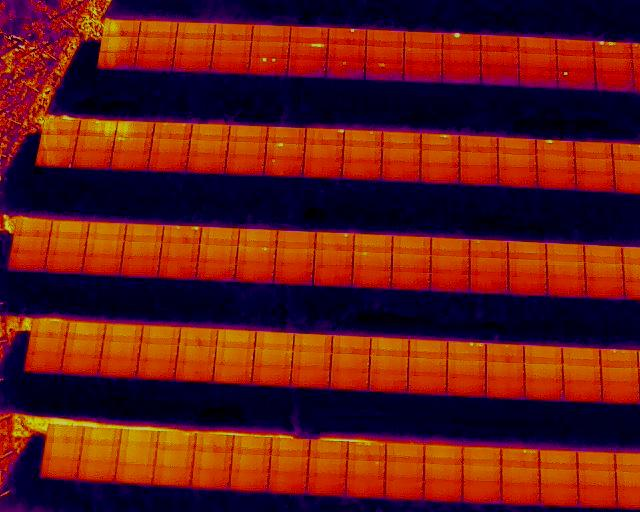Cell: (347, 461, 385, 479), (315, 232, 353, 250), (557, 71, 594, 89), (366, 63, 403, 81), (238, 247, 275, 265), (421, 133, 459, 150), (536, 139, 574, 156), (344, 130, 381, 147), (443, 33, 480, 50), (327, 61, 364, 78), (329, 28, 365, 45), (307, 129, 344, 145), (267, 143, 303, 159)
Cell-Multi: (501, 447, 539, 467), (448, 341, 486, 360), (601, 348, 638, 367), (163, 225, 200, 242), (594, 41, 631, 58), (251, 57, 287, 74)
No-Anomaly: (578, 486, 617, 508), (353, 268, 391, 289), (540, 485, 578, 506), (409, 339, 448, 359), (485, 379, 524, 399), (563, 381, 602, 401), (76, 462, 115, 482), (307, 476, 346, 496), (501, 484, 539, 504), (370, 355, 408, 375), (463, 447, 501, 467), (525, 380, 563, 400), (371, 336, 409, 356), (463, 483, 501, 503), (424, 481, 462, 501), (347, 479, 385, 499), (469, 275, 508, 294), (384, 480, 423, 499), (447, 376, 486, 395), (233, 436, 272, 455), (386, 443, 425, 462), (602, 383, 639, 403), (116, 464, 153, 484), (431, 237, 469, 256), (538, 170, 576, 189), (431, 273, 469, 292), (547, 278, 585, 297), (578, 451, 616, 470), (330, 371, 368, 390), (176, 362, 214, 381), (562, 347, 600, 366), (292, 369, 330, 388), (155, 448, 193, 467), (540, 450, 578, 469), (313, 267, 351, 286), (369, 373, 407, 392), (178, 328, 216, 347), (460, 166, 498, 185), (41, 459, 77, 479), (153, 468, 193, 486), (142, 325, 178, 345), (84, 255, 121, 274), (294, 334, 331, 353), (83, 428, 120, 447), (253, 366, 290, 385), (117, 446, 154, 465), (425, 446, 462, 465), (470, 239, 507, 258), (218, 330, 255, 349), (256, 332, 293, 351), (431, 255, 470, 273), (231, 454, 270, 472), (408, 376, 447, 394), (524, 345, 562, 363), (584, 245, 622, 263), (382, 164, 420, 182), (392, 254, 430, 272), (88, 222, 126, 240), (595, 73, 633, 91), (392, 272, 430, 290), (574, 141, 612, 159), (271, 439, 309, 457), (196, 434, 232, 453), (308, 459, 346, 477), (442, 65, 480, 83), (486, 361, 524, 379), (276, 248, 314, 266), (481, 51, 519, 69), (408, 357, 446, 375), (214, 365, 252, 383), (546, 243, 584, 261), (332, 335, 370, 353), (354, 234, 392, 252), (498, 169, 536, 187), (269, 475, 307, 493), (486, 343, 524, 361), (25, 353, 59, 373), (47, 252, 81, 272), (103, 340, 137, 360), (508, 242, 545, 260), (508, 259, 545, 277), (216, 347, 253, 365), (254, 350, 291, 368), (310, 441, 347, 459), (270, 457, 307, 475), (367, 30, 404, 48), (386, 462, 423, 480), (344, 146, 381, 164), (277, 231, 314, 249), (201, 227, 238, 245), (576, 173, 613, 191), (195, 451, 230, 470), (105, 323, 140, 342), (199, 246, 238, 263), (314, 250, 353, 267), (353, 252, 392, 269), (121, 258, 157, 276), (289, 58, 325, 76), (140, 344, 176, 362), (175, 53, 211, 71), (49, 237, 85, 255), (305, 160, 341, 178), (239, 229, 275, 247), (159, 261, 197, 278), (197, 264, 235, 281), (470, 257, 508, 274), (547, 261, 585, 278), (236, 266, 274, 283), (274, 267, 312, 284), (509, 277, 547, 294), (424, 464, 462, 481), (585, 263, 623, 280), (383, 131, 421, 148), (63, 355, 97, 374), (459, 136, 497, 153), (448, 360, 486, 377), (540, 468, 578, 485), (463, 465, 501, 482), (293, 352, 331, 369), (366, 46, 404, 63), (48, 425, 82, 444), (586, 280, 624, 297), (481, 68, 519, 85), (230, 473, 268, 490), (502, 467, 540, 484), (536, 155, 574, 172), (519, 54, 557, 71), (498, 153, 536, 170), (420, 166, 458, 183), (392, 237, 430, 254), (193, 470, 228, 488), (121, 429, 156, 447), (45, 443, 80, 461), (101, 358, 136, 376), (68, 322, 103, 340), (150, 153, 185, 171), (525, 362, 562, 379), (135, 53, 172, 70), (291, 26, 328, 43), (177, 346, 214, 363), (498, 138, 535, 155), (86, 240, 123, 257), (331, 354, 368, 371), (519, 37, 556, 54), (138, 37, 175, 54), (348, 444, 385, 461), (404, 65, 441, 82), (80, 445, 117, 462), (519, 70, 556, 87), (123, 242, 160, 259), (126, 225, 163, 242), (10, 251, 43, 270), (577, 470, 616, 486), (162, 242, 198, 259), (268, 127, 304, 144), (191, 124, 227, 141), (138, 361, 174, 378), (66, 339, 100, 357), (212, 56, 248, 73), (266, 159, 302, 176), (252, 41, 288, 58), (32, 320, 68, 337), (481, 35, 519, 51), (405, 32, 443, 48), (556, 40, 594, 56), (157, 432, 195, 448), (601, 367, 639, 383), (575, 157, 613, 173), (178, 22, 213, 39), (80, 119, 115, 136), (117, 121, 152, 138), (177, 38, 212, 55), (228, 157, 263, 174), (189, 156, 224, 173), (141, 21, 176, 38), (38, 149, 71, 167), (13, 236, 46, 254), (53, 220, 86, 238), (405, 48, 442, 64), (558, 55, 595, 71), (343, 162, 380, 178), (382, 147, 419, 163), (421, 150, 458, 166), (562, 365, 601, 380), (115, 137, 149, 154), (77, 136, 111, 153), (231, 126, 265, 143), (306, 145, 340, 162), (74, 151, 108, 168), (112, 153, 146, 170), (99, 52, 133, 69), (329, 45, 365, 61), (215, 24, 251, 40), (214, 40, 250, 56), (595, 58, 633, 73), (29, 338, 64, 354), (40, 135, 75, 151), (102, 37, 137, 53), (155, 123, 190, 139), (460, 152, 497, 167), (229, 142, 263, 158), (17, 220, 49, 237), (254, 26, 290, 41), (190, 142, 226, 157), (442, 50, 480, 64), (105, 20, 138, 36), (44, 120, 78, 134), (152, 139, 186, 153)
Unclassified: (290, 42, 326, 59)
